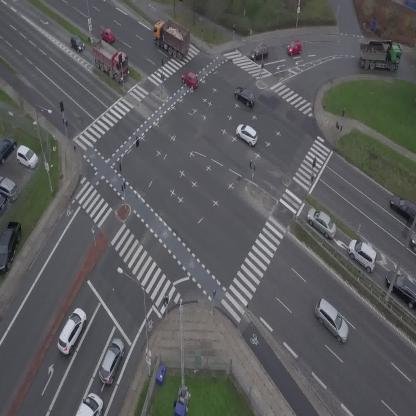car: (308, 296, 357, 345), (52, 305, 91, 356), (95, 336, 129, 387), (342, 235, 384, 274), (302, 204, 341, 242), (232, 121, 261, 147), (232, 84, 258, 108), (65, 32, 87, 55), (179, 69, 201, 90), (99, 26, 118, 45), (249, 45, 269, 60), (287, 41, 302, 56)
lorry: (83, 34, 137, 85), (144, 14, 198, 62), (359, 39, 402, 71), (75, 393, 103, 416)
